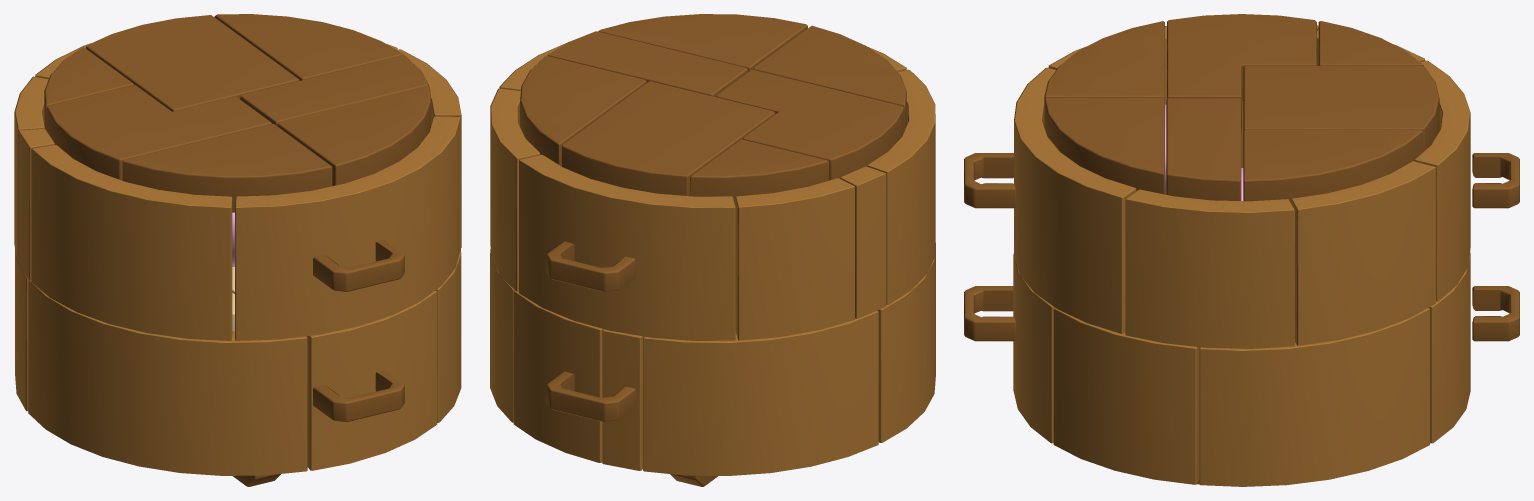
File: Level_Streamer_31.fbx
The picture shows the model from 3 angles, left to right: view 1: azimuth 30°, elevation 25°; view 2: azimuth 150°, elevation 25°; view 3: azimuth 270°, elevation 25°; orthographic projection. The views are drawn at different scales.
Visible parts, largest first — view 1: LV1_Steamer_1, LV3_Steamer_11, LV3_Steamer_2, LV1_Steamer_11, LV3_Steamer_10, LV3_Steamer_5, LV3_Steamer_6, LV3_Steamer_13, LV3_Steamer_15, LV3_Steamer_14, LV1_Steamer_15, LV3_Steamer_4 (+6 smaller); view 2: LV1_Steamer_2, LV3_Steamer_9, LV3_Steamer_3, LV3_Steamer_10, LV3_Steamer_5, LV1_Steamer_12, LV3_Steamer_2, LV1_Steamer_1, LV3_Steamer_15, LV3_Steamer_13, LV3_Steamer_6, LV3_Steamer_14 (+8 smaller); view 3: LV1_Steamer_16, LV3_Steamer_17, LV3_Steamer_16, LV1_Steamer_15, LV3_Steamer_11, LV3_Steamer_10, LV3_Steamer_15, LV3_Steamer_5, LV3_Steamer_13, LV3_Steamer_14, LV3_Steamer_9, LV3_Steamer_6 (+7 smaller).
Boxes of the visible parts, bbox=[...] form: LV1_Steamer_1: bbox=[28, 280, 307, 475]; LV3_Steamer_11: bbox=[235, 116, 460, 340]; LV3_Steamer_2: bbox=[31, 144, 232, 340]; LV1_Steamer_11: bbox=[307, 290, 437, 470]; LV3_Steamer_10: bbox=[86, 15, 299, 111]; LV3_Steamer_5: bbox=[46, 85, 272, 180]; LV3_Steamer_6: bbox=[122, 124, 332, 212]; LV3_Steamer_13: bbox=[277, 86, 430, 185]; LV3_Steamer_15: bbox=[214, 14, 403, 80]; LV3_Steamer_14: bbox=[240, 55, 428, 125]; LV1_Steamer_15: bbox=[435, 248, 461, 422]; LV3_Steamer_4: bbox=[44, 47, 134, 130]; LV1_Steamer_2: bbox=[643, 311, 878, 475]; LV3_Steamer_9: bbox=[519, 154, 735, 340]; LV3_Steamer_3: bbox=[735, 178, 854, 340]; LV3_Steamer_10: bbox=[561, 81, 775, 195]; LV3_Steamer_5: bbox=[716, 69, 904, 180]; LV1_Steamer_12: bbox=[513, 290, 603, 462]; LV3_Steamer_2: bbox=[867, 69, 935, 304]; LV1_Steamer_1: bbox=[877, 243, 935, 442]; LV3_Steamer_15: bbox=[520, 55, 646, 165]; LV3_Steamer_13: bbox=[598, 14, 807, 71]; LV3_Steamer_6: bbox=[753, 25, 906, 128]; LV3_Steamer_14: bbox=[547, 31, 748, 96]; LV1_Steamer_16: bbox=[1199, 308, 1429, 486]; LV3_Steamer_17: bbox=[1125, 189, 1294, 348]; LV3_Steamer_16: bbox=[1291, 161, 1435, 345]; LV1_Steamer_15: bbox=[1053, 308, 1199, 484]; LV3_Steamer_11: bbox=[1014, 67, 1136, 333]; LV3_Steamer_10: bbox=[1243, 66, 1439, 150]; LV3_Steamer_15: bbox=[1243, 130, 1423, 202]; LV3_Steamer_5: bbox=[1167, 14, 1316, 130]; LV3_Steamer_13: bbox=[1044, 98, 1164, 194]; LV3_Steamer_14: bbox=[1166, 98, 1241, 200]; LV3_Steamer_9: bbox=[1414, 60, 1470, 301]; LV3_Steamer_6: bbox=[1044, 21, 1164, 99].
Bounding box in the file's own units: 0.0387 × 0.0356 × 0.0471.
